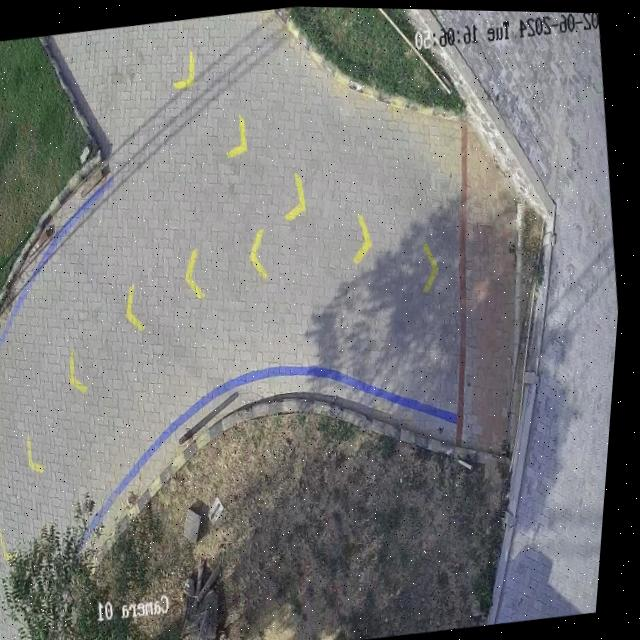No Car: (0, 5, 623, 640)
